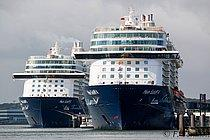Ship: (71, 6, 191, 134), (9, 37, 92, 131)
